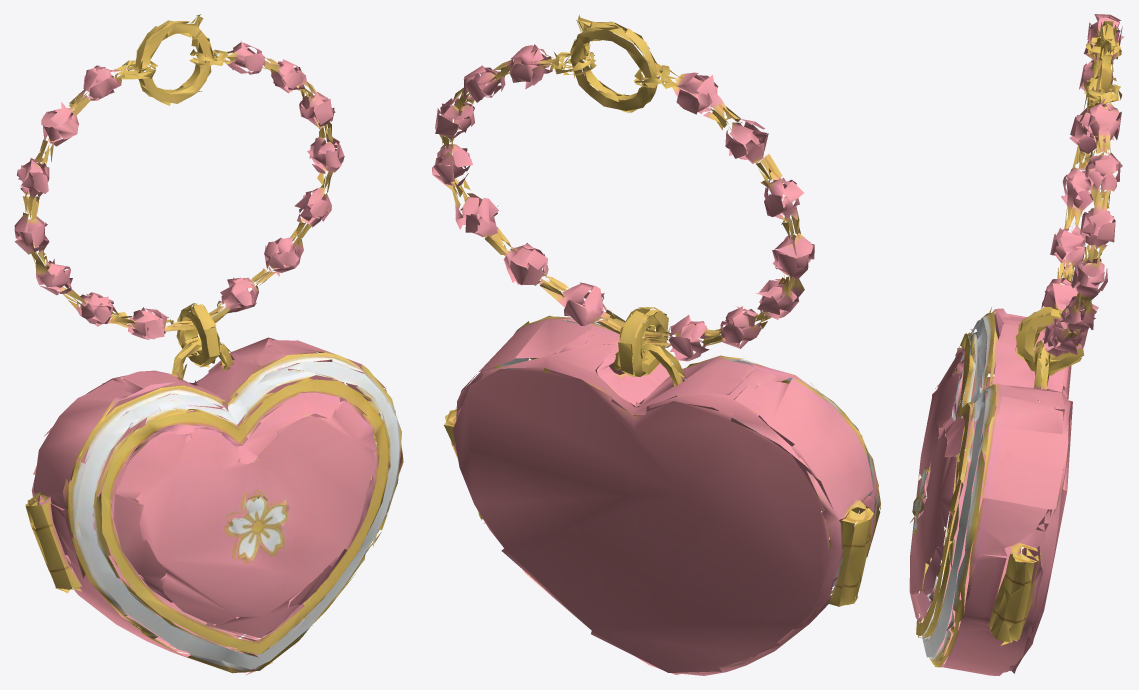
The model's file is gear_necklace.glb.
3 views of the same model, side by side, from view 1: azimuth 30°, elevation 25°; view 2: azimuth 150°, elevation 25°; view 3: azimuth 270°, elevation 25° (orthographic). The views are drawn at different scales.
Visible parts, largest first — view 1: gear_necklace; view 2: gear_necklace; view 3: gear_necklace.
Part boxes in pixels (x1=…): gear_necklace: x1=14, y1=14, x2=403, y2=675; gear_necklace: x1=432, y1=14, x2=880, y2=675; gear_necklace: x1=909, y1=14, x2=1123, y2=675.
Bounding box in the file's own units: 0.3194 × 0.4999 × 0.1508.
1 material, 1 textured.
